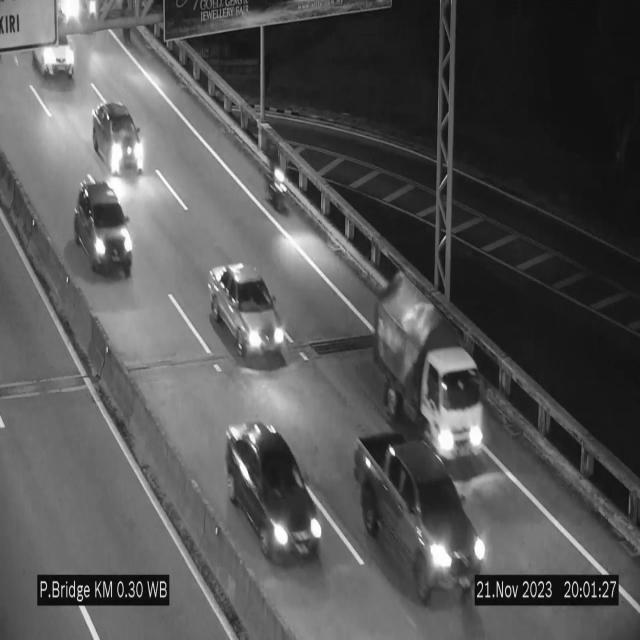Car: (357, 427, 489, 600), (225, 421, 322, 560), (208, 263, 287, 362), (74, 178, 132, 274), (88, 99, 147, 183), (27, 20, 83, 86)
Motorcycle: (267, 142, 289, 215)
Truck: (372, 274, 486, 460)
